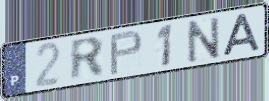1: (153, 22, 174, 70)
2: (34, 41, 63, 90)
A: (221, 11, 263, 59)
N: (185, 14, 222, 65)
P: (109, 29, 145, 78)
R: (69, 35, 107, 83)
